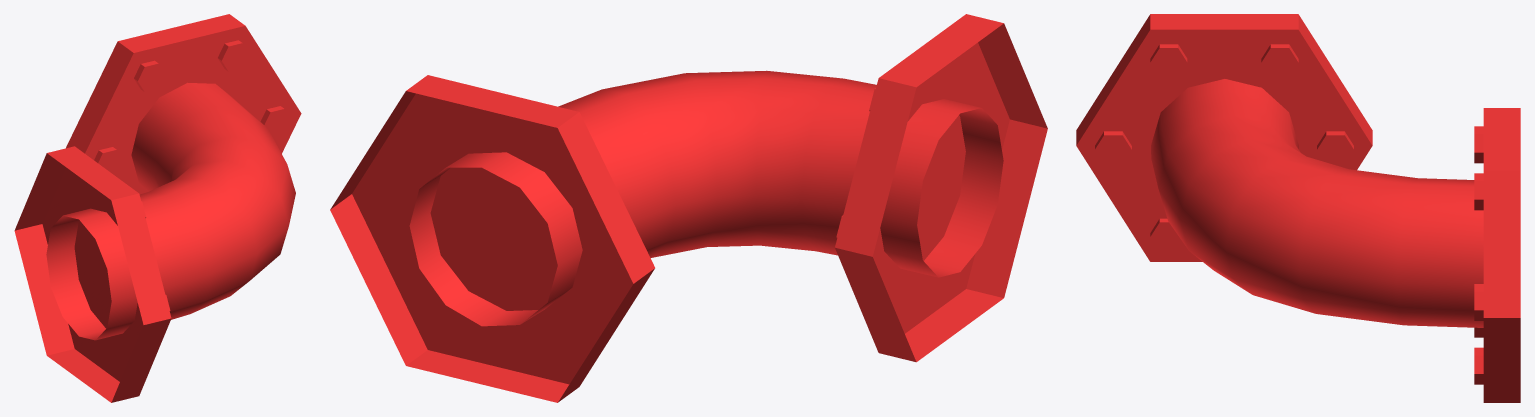
Rendered from C_Pipe.fbx.
3 renders of one model, left to right at view 1: azimuth 30°, elevation 25°; view 2: azimuth 150°, elevation 25°; view 3: azimuth 270°, elevation 25°, orthographic. The views are drawn at different scales.
Visible parts, largest first — view 1: P3; view 2: P3; view 3: P3.
Part boxes in pixels (box(x1,y1,x2,y2)): P3: box(14, 14, 301, 402); P3: box(330, 14, 1047, 402); P3: box(1076, 14, 1520, 402).
Size of the model in its own units: 1.5 by 0.866 by 1.5.
